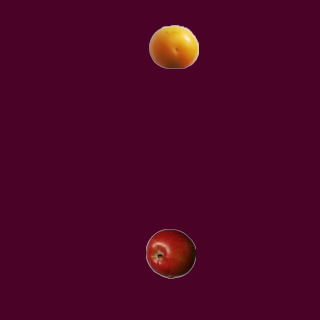Apple Braeburn: (145, 228, 195, 278)
Cherry Wax Yellow: (148, 21, 198, 71)
